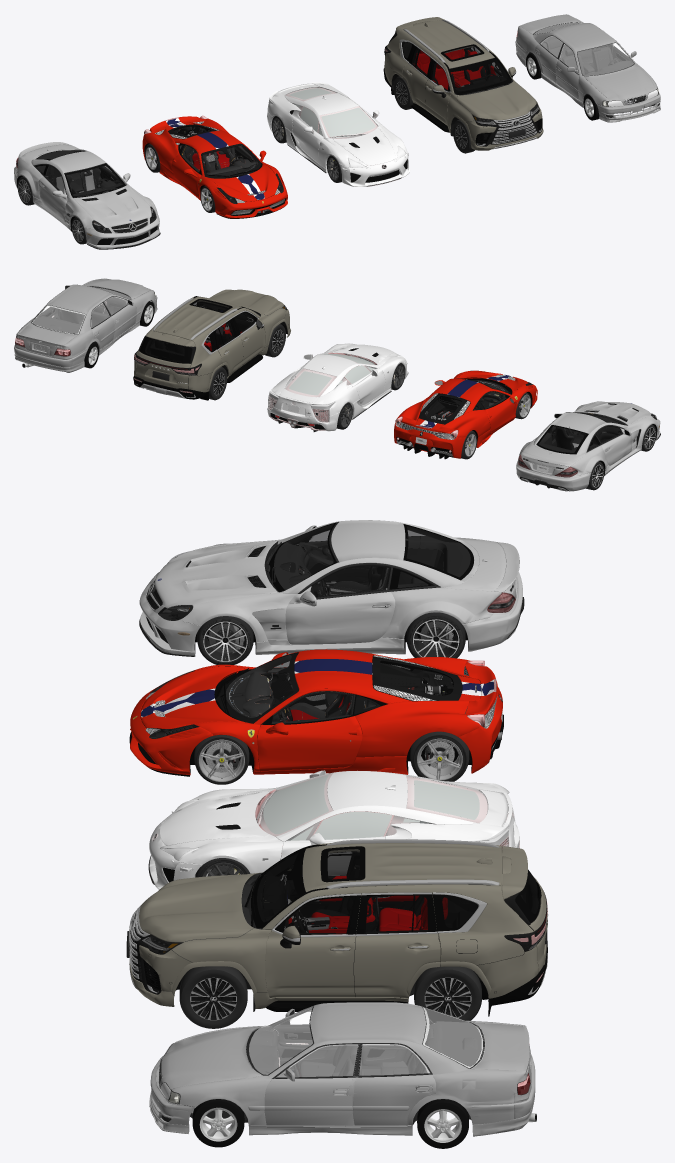
Rendered from cars_32.fbx.
The picture shows the model from 3 angles, top to bottom: view 1: azimuth 30°, elevation 25°; view 2: azimuth 150°, elevation 25°; view 3: azimuth 270°, elevation 25°; orthographic projection. The views are drawn at different scales.
Parts seen in each view (by area): view 1: Body_LX700hCarPaint1, Body_Meshesdoor1Mtl, Body_mMercedesBenz_SL65AMGBla.017, Body_Lexus_LFAGold_2011Paint_, Body_Ferrari_458Speciale_2014.013, SeeThrough_LX700hglass2, Body_Meshesuntihgjjtled1Mtl, SeeThrough_Mesheswhindowxz1Mtl, SeeThrough_Lexus_LFAGold_2011Window, Body_Ferrari_458Speciale_2014.003, SeeThrough_mMercedesBenz_SL65AMGBla, Body_LX700hPlastic_SH1 (+10 smaller); view 2: Body_LX700hCarPaint1, Body_Meshesdoor1Mtl, Body_mMercedesBenz_SL65AMGBla.017, Body_Lexus_LFAGold_2011Paint_, Body_Ferrari_458Speciale_2014.013, SeeThrough_LX700hglass2, Body_Meshesuntihgjjtled1Mtl, Body_Ferrari_458Speciale_2014.003, Body_LX700hPlastic_SH1, SeeThrough_Mesheswhindowxz1Mtl, Body_LX700hLeather_Int1, SeeThrough_mMercedesBenz_SL65AMGBla (+12 smaller); view 3: Body_LX700hCarPaint1, Body_Meshesdoor1Mtl, Body_mMercedesBenz_SL65AMGBla.017, Body_Ferrari_458Speciale_2014.013, Body_Lexus_LFAGold_2011Paint_, SeeThrough_LX700hglass2, Body_Meshesuntihgjjtled1Mtl, SeeThrough_Mesheswhindowxz1Mtl, SeeThrough_mMercedesBenz_SL65AMGBla, SeeThrough_Lexus_LFAGold_2011Window, SeeThrough_Ferrari_458Speciale_2014, Body_LX700hPlastic_SH1 (+24 smaller).
Boxes of the visible parts, x1,y1,x2,y2 form: Body_LX700hCarPaint1: [384, 17, 543, 150]; Body_Meshesdoor1Mtl: [515, 14, 660, 122]; Body_mMercedesBenz_SL65AMGBla.017: [14, 142, 159, 248]; Body_Lexus_LFAGold_2011Paint_: [267, 82, 409, 186]; Body_Ferrari_458Speciale_2014.013: [142, 116, 287, 218]; SeeThrough_LX700hglass2: [402, 42, 518, 125]; Body_Meshesuntihgjjtled1Mtl: [516, 22, 659, 117]; SeeThrough_Mesheswhindowxz1Mtl: [535, 23, 633, 75]; SeeThrough_Lexus_LFAGold_2011Window: [289, 88, 405, 168]; Body_Ferrari_458Speciale_2014.003: [166, 118, 285, 218]; SeeThrough_mMercedesBenz_SL65AMGBla: [16, 150, 156, 232]; Body_LX700hPlastic_SH1: [383, 41, 542, 143]; Body_LX700hCarPaint1: [134, 289, 290, 392]; Body_Meshesdoor1Mtl: [14, 278, 157, 372]; Body_mMercedesBenz_SL65AMGBla.017: [516, 401, 660, 491]; Body_Lexus_LFAGold_2011Paint_: [267, 343, 408, 431]; Body_Ferrari_458Speciale_2014.013: [394, 370, 537, 458]; SeeThrough_LX700hglass2: [139, 299, 255, 363]; Body_Meshesuntihgjjtled1Mtl: [15, 284, 155, 356]; Body_Ferrari_458Speciale_2014.003: [396, 374, 534, 459]; Body_LX700hPlastic_SH1: [133, 296, 262, 400]; SeeThrough_Mesheswhindowxz1Mtl: [33, 287, 130, 333]; Body_LX700hLeather_Int1: [136, 301, 255, 388]; SeeThrough_mMercedesBenz_SL65AMGBla: [518, 412, 656, 474]; Body_LX700hCarPaint1: [129, 843, 547, 1008]; Body_Meshesdoor1Mtl: [149, 1002, 535, 1136]; Body_mMercedesBenz_SL65AMGBla.017: [139, 520, 522, 655]; Body_Ferrari_458Speciale_2014.013: [130, 649, 502, 774]; Body_Lexus_LFAGold_2011Paint_: [149, 770, 519, 889]; SeeThrough_LX700hglass2: [131, 847, 540, 934]; Body_Meshesuntihgjjtled1Mtl: [159, 1006, 530, 1125]; SeeThrough_Mesheswhindowxz1Mtl: [249, 1006, 481, 1076]; SeeThrough_mMercedesBenz_SL65AMGBla: [158, 524, 513, 620]; SeeThrough_Lexus_LFAGold_2011Window: [163, 775, 479, 860]; SeeThrough_Ferrari_458Speciale_2014: [226, 654, 453, 723]; Body_LX700hPlastic_SH1: [143, 844, 547, 1016].
Bounding box in the file's own units: 16.03 × 1.89 × 5.12.
117 materials, 108 textured.
